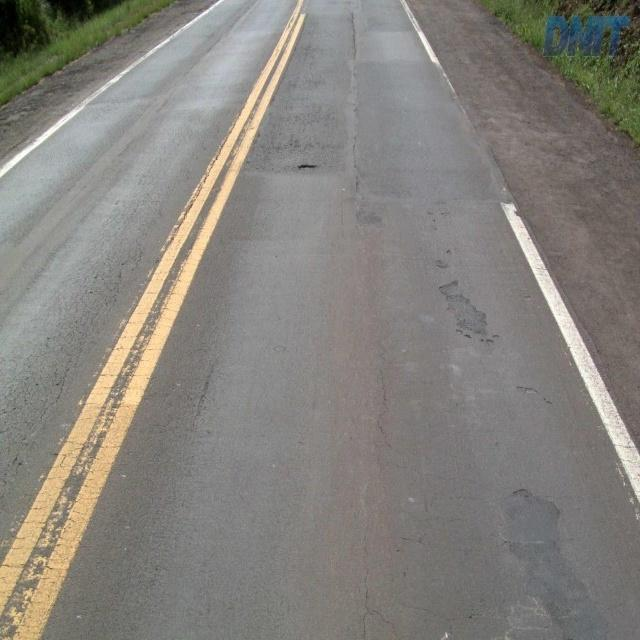pothole: (282, 151, 328, 175)
